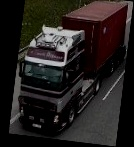truck: (11, 0, 130, 137)
